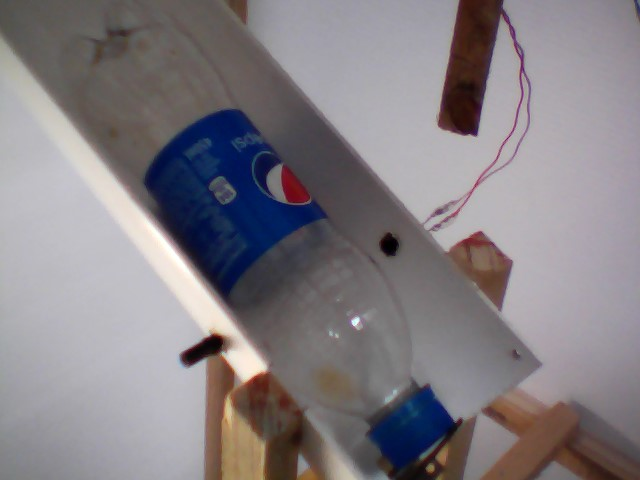plastico: (40, 2, 462, 475)
